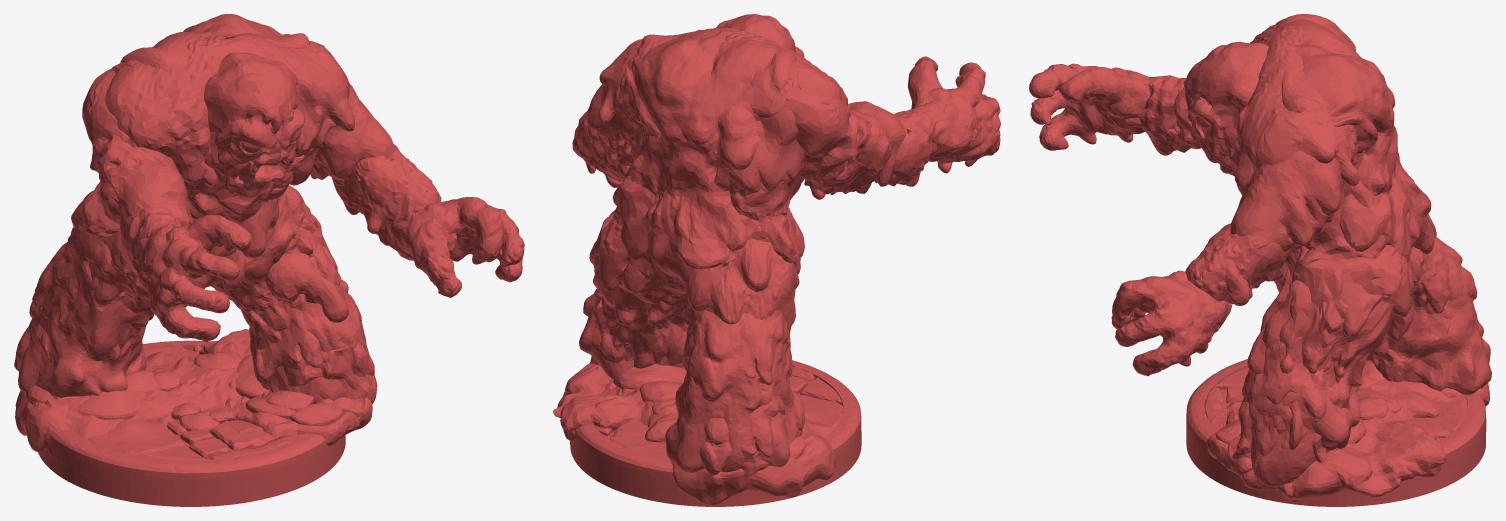
File: mud-monster.glb
3 renders of one model, left to right at view 1: azimuth 30°, elevation 25°; view 2: azimuth 150°, elevation 25°; view 3: azimuth 270°, elevation 25°, orthographic. The views are drawn at different scales.
Visible parts, largest first — view 1: mud-monster; view 2: mud-monster; view 3: mud-monster.
Boxes of the visible parts, x1,y1,x2,y2 form: mud-monster: [14, 14, 524, 506]; mud-monster: [553, 14, 1000, 506]; mud-monster: [1029, 14, 1491, 506].
Bounding box in the file's own units: 44.32 × 43.99 × 45.31.
